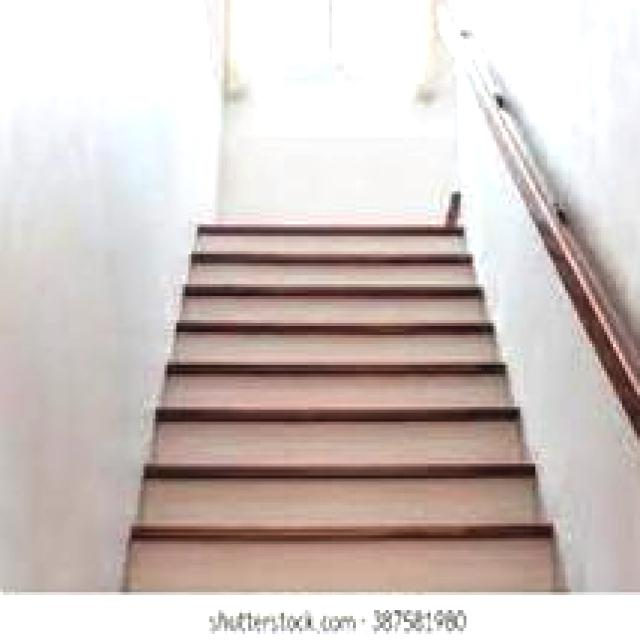upstair: (127, 339, 560, 563)
